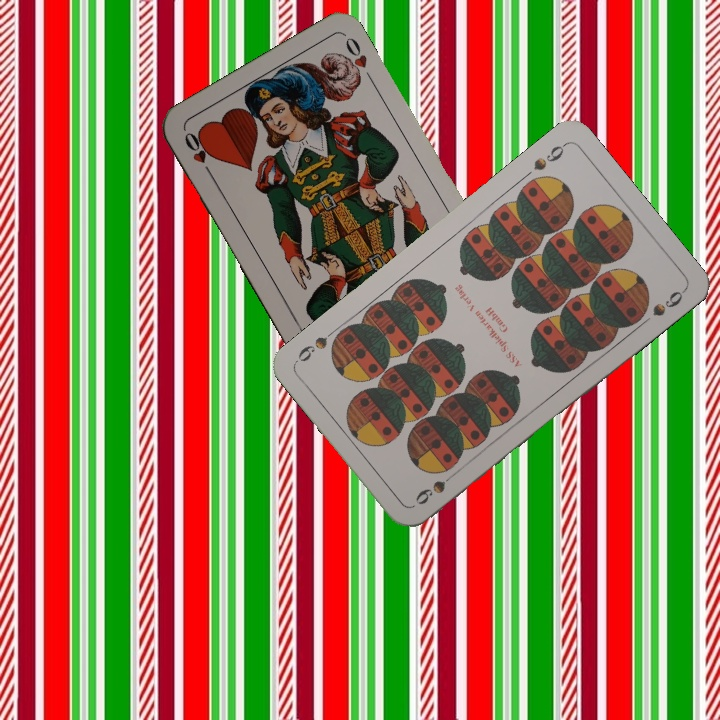HO: (180, 128, 217, 181)
S9: (411, 467, 461, 508), (529, 139, 569, 174)
